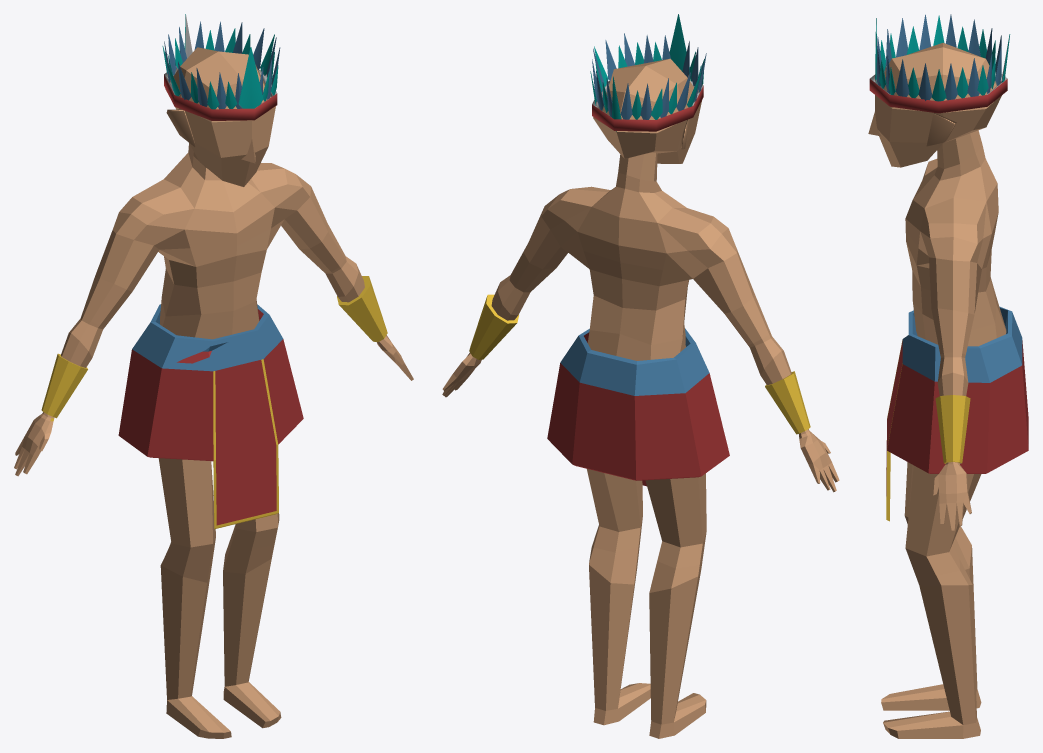
The model's file is indio_T.fbx.
3 renders of one model, left to right at view 1: azimuth 30°, elevation 25°; view 2: azimuth 150°, elevation 25°; view 3: azimuth 270°, elevation 25°, orthographic. The views are drawn at different scales.
Parts seen in each view (by area): view 1: indio_06t:pCone2; view 2: indio_06t:pCone2; view 3: indio_06t:pCone2.
Part boxes in pixels (<box>): indio_06t:pCone2: <box>14,14,413,738</box>; indio_06t:pCone2: <box>442,14,839,738</box>; indio_06t:pCone2: <box>868,14,1028,738</box>.
Bounding box in the file's own units: 3.88 × 6.44 × 1.34.
